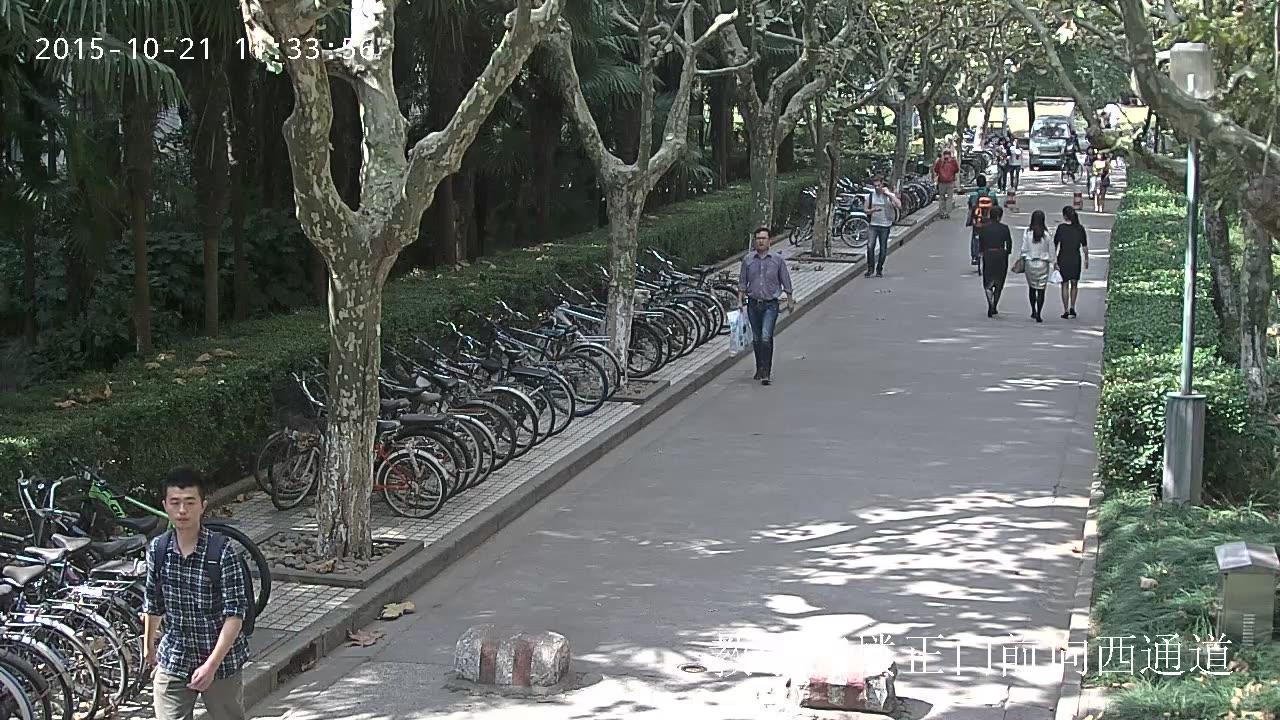person: (139, 464, 245, 720), (729, 227, 792, 385), (1010, 209, 1054, 321), (1054, 206, 1088, 318), (864, 173, 900, 276), (978, 206, 1011, 318), (965, 173, 1003, 266), (932, 150, 958, 219), (1088, 151, 1109, 212), (1062, 129, 1081, 183), (1089, 152, 1109, 199), (1063, 130, 1081, 175), (1008, 138, 1023, 190), (994, 137, 1008, 192)
